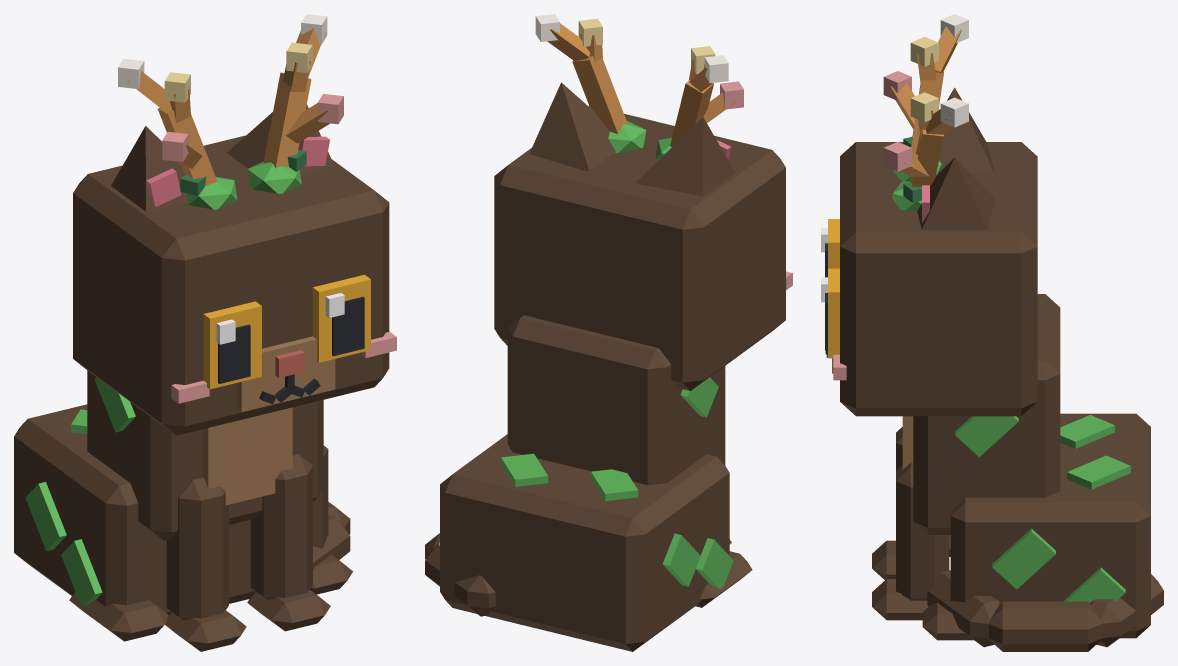
The model's file is CatCafe_Cat_OldOak_Sit.glb.
The picture shows the model from 3 angles, left to right: view 1: azimuth 30°, elevation 25°; view 2: azimuth 150°, elevation 25°; view 3: azimuth 270°, elevation 25°; orthographic projection. The views are drawn at different scales.
Parts seen in each view (by area): view 1: CatCafe_Cat_OldOak_Sit_Head, CatCafe_Cat_OldOak_Sit_Body, CatCafe_Cat_OldOak_Sit_Prop, CatCafe_Cat_OldOak_Sit_LegF2, CatCafe_Cat_OldOak_Sit_LegF1, CatCafe_Cat_OldOak_Sit_Eye2, CatCafe_Cat_OldOak_Sit_Eye1, CatCafe_Cat_OldOak_Sit_EarR, CatCafe_Cat_OldOak_Sit_EarL, CatCafe_Cat_OldOak_Sit_Tail; view 2: CatCafe_Cat_OldOak_Sit_Body, CatCafe_Cat_OldOak_Sit_Head, CatCafe_Cat_OldOak_Sit_Prop, CatCafe_Cat_OldOak_Sit_EarL, CatCafe_Cat_OldOak_Sit_EarR, CatCafe_Cat_OldOak_Sit_Tail; view 3: CatCafe_Cat_OldOak_Sit_Body, CatCafe_Cat_OldOak_Sit_Head, CatCafe_Cat_OldOak_Sit_Tail, CatCafe_Cat_OldOak_Sit_Prop, CatCafe_Cat_OldOak_Sit_LegF1, CatCafe_Cat_OldOak_Sit_EarL, CatCafe_Cat_OldOak_Sit_EarR, CatCafe_Cat_OldOak_Sit_Eye1, CatCafe_Cat_OldOak_Sit_LegF2, CatCafe_Cat_OldOak_Sit_Eye2.
Boxes of the visible parts, bbox=[...] form: CatCafe_Cat_OldOak_Sit_Head: bbox=[73, 135, 396, 435]; CatCafe_Cat_OldOak_Sit_Body: bbox=[14, 370, 352, 641]; CatCafe_Cat_OldOak_Sit_Prop: bbox=[118, 14, 343, 209]; CatCafe_Cat_OldOak_Sit_LegF2: bbox=[165, 477, 246, 651]; CatCafe_Cat_OldOak_Sit_LegF1: bbox=[247, 454, 330, 631]; CatCafe_Cat_OldOak_Sit_Eye2: bbox=[203, 301, 261, 389]; CatCafe_Cat_OldOak_Sit_Eye1: bbox=[312, 274, 370, 362]; CatCafe_Cat_OldOak_Sit_EarR: bbox=[111, 126, 187, 211]; CatCafe_Cat_OldOak_Sit_EarL: bbox=[227, 104, 334, 175]; CatCafe_Cat_OldOak_Sit_Tail: bbox=[313, 502, 350, 569]; CatCafe_Cat_OldOak_Sit_Body: bbox=[438, 315, 752, 651]; CatCafe_Cat_OldOak_Sit_Head: bbox=[494, 106, 792, 390]; CatCafe_Cat_OldOak_Sit_Prop: bbox=[535, 14, 743, 159]; CatCafe_Cat_OldOak_Sit_EarL: bbox=[529, 82, 615, 170]; CatCafe_Cat_OldOak_Sit_EarR: bbox=[636, 117, 734, 196]; CatCafe_Cat_OldOak_Sit_Tail: bbox=[425, 533, 495, 616]; CatCafe_Cat_OldOak_Sit_Body: bbox=[902, 294, 1150, 640]; CatCafe_Cat_OldOak_Sit_Head: bbox=[825, 142, 1037, 416]; CatCafe_Cat_OldOak_Sit_Tail: bbox=[927, 570, 1163, 651]; CatCafe_Cat_OldOak_Sit_Prop: bbox=[883, 14, 968, 210]; CatCafe_Cat_OldOak_Sit_LegF1: bbox=[872, 462, 949, 620]; CatCafe_Cat_OldOak_Sit_EarL: bbox=[917, 157, 994, 229]; CatCafe_Cat_OldOak_Sit_EarR: bbox=[938, 87, 994, 174]; CatCafe_Cat_OldOak_Sit_Eye1: bbox=[821, 268, 839, 358]; CatCafe_Cat_OldOak_Sit_LegF2: bbox=[872, 427, 902, 579]; CatCafe_Cat_OldOak_Sit_Eye2: bbox=[821, 219, 839, 277].
Bounding box in the file's own units: 1.05 × 2.09 × 1.22.
1 material, 1 textured.
